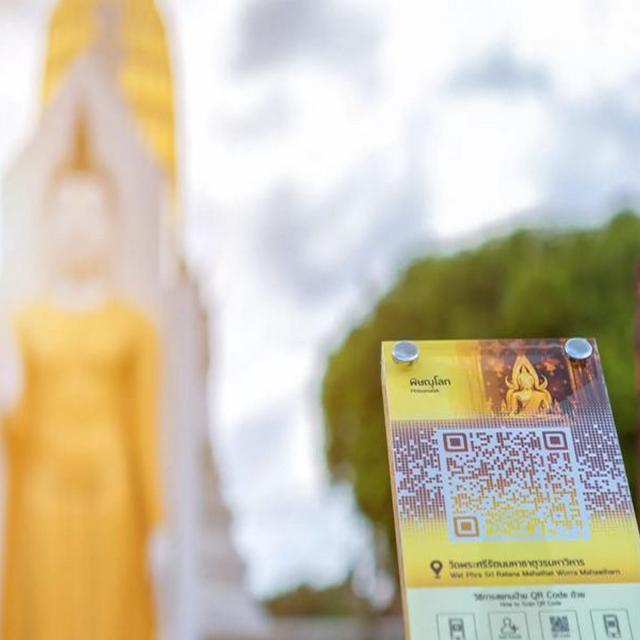qr_code: (442, 430, 585, 538)
